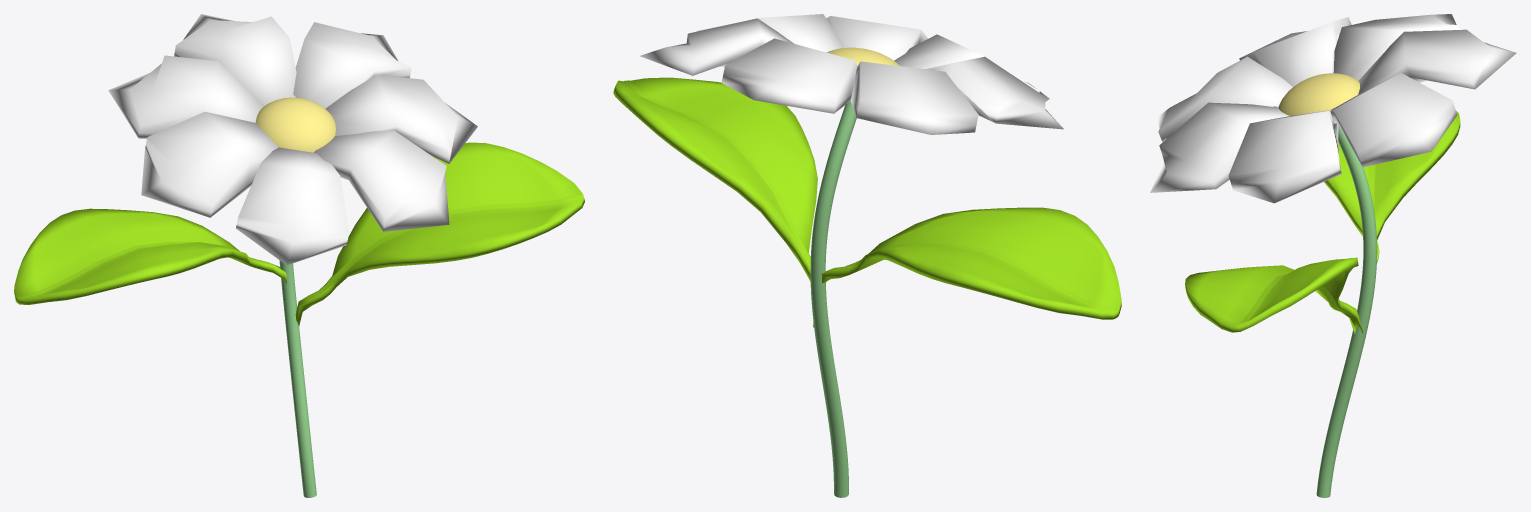
Rendered from flower4.glb.
3 renders of one model, left to right at view 1: azimuth 30°, elevation 25°; view 2: azimuth 150°, elevation 25°; view 3: azimuth 270°, elevation 25°, orthographic. The views are drawn at different scales.
Parts seen in each view (by area): view 1: Plane.002; view 2: Plane.002; view 3: Plane.002.
Part boxes in pixels (box(x1,y1,x2,y2)): Plane.002: box(14, 14, 584, 497); Plane.002: box(613, 14, 1121, 497); Plane.002: box(1150, 14, 1516, 497).
Bounding box in the file's own units: 0.5793 × 0.4698 × 0.3536.
4 materials, 1 textured.
